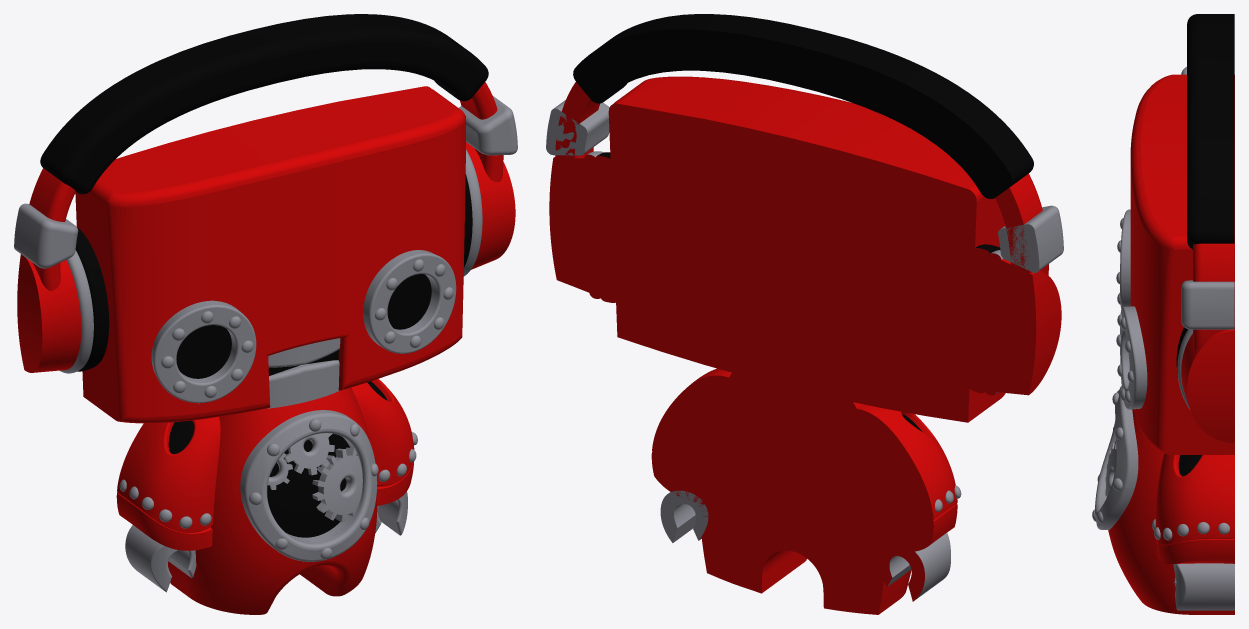
Rendered from Red_Robot.fbx.
3 views of the same model, side by side, from view 1: azimuth 30°, elevation 25°; view 2: azimuth 150°, elevation 25°; view 3: azimuth 270°, elevation 25° (orthographic). The views are drawn at different scales.
Visible parts, largest first — view 1: Mesh; view 2: Mesh; view 3: Mesh.
Part boxes in pixels (x1=…): Mesh: x1=14, y1=14, x2=517, y2=614; Mesh: x1=546, y1=14, x2=1063, y2=614; Mesh: x1=1092, y1=14, x2=1234, y2=614.
Size of the model in its own units: 12.82 by 13.81 by 3.42.
